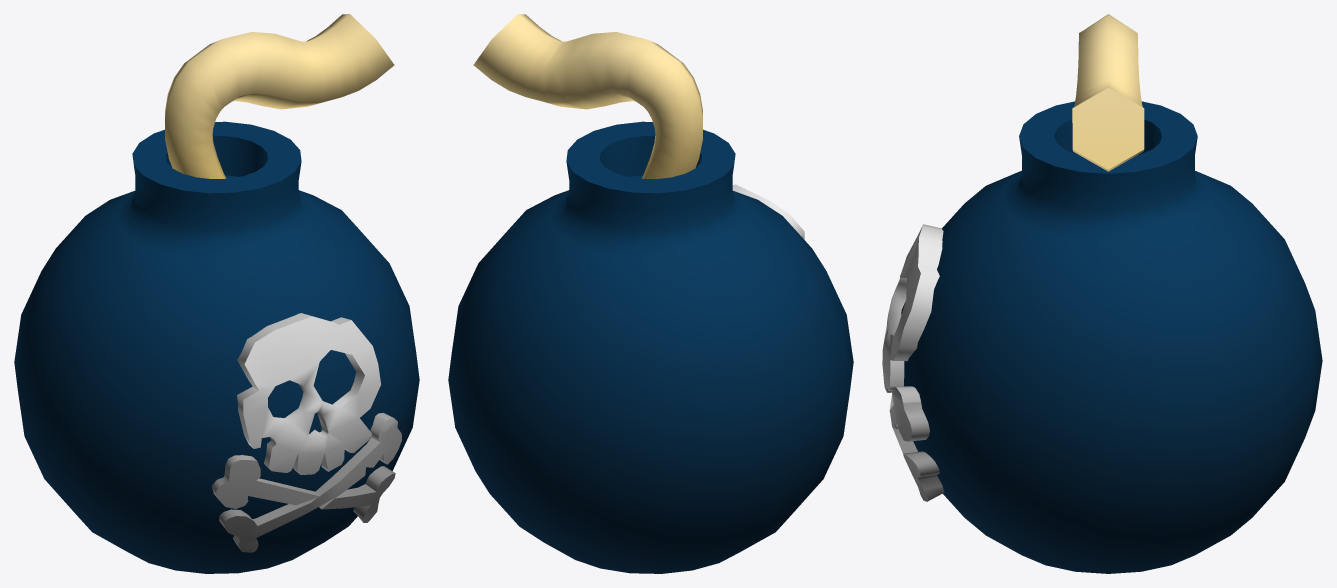
File: Collectible_Bomb_02.fbx
3 renders of one model, left to right at view 1: azimuth 30°, elevation 25°; view 2: azimuth 150°, elevation 25°; view 3: azimuth 270°, elevation 25°, orthographic. The views are drawn at different scales.
Parts seen in each view (by area): view 1: Collectible_Bomb_02; view 2: Collectible_Bomb_02; view 3: Collectible_Bomb_02.
Boxes of the visible parts, left/top/right/bottom form: Collectible_Bomb_02: left=14, top=14, right=419, bottom=573; Collectible_Bomb_02: left=448, top=14, right=853, bottom=573; Collectible_Bomb_02: left=882, top=14, right=1322, bottom=573.
Size of the model in its own units: 67.37 by 94.03 by 69.23.
